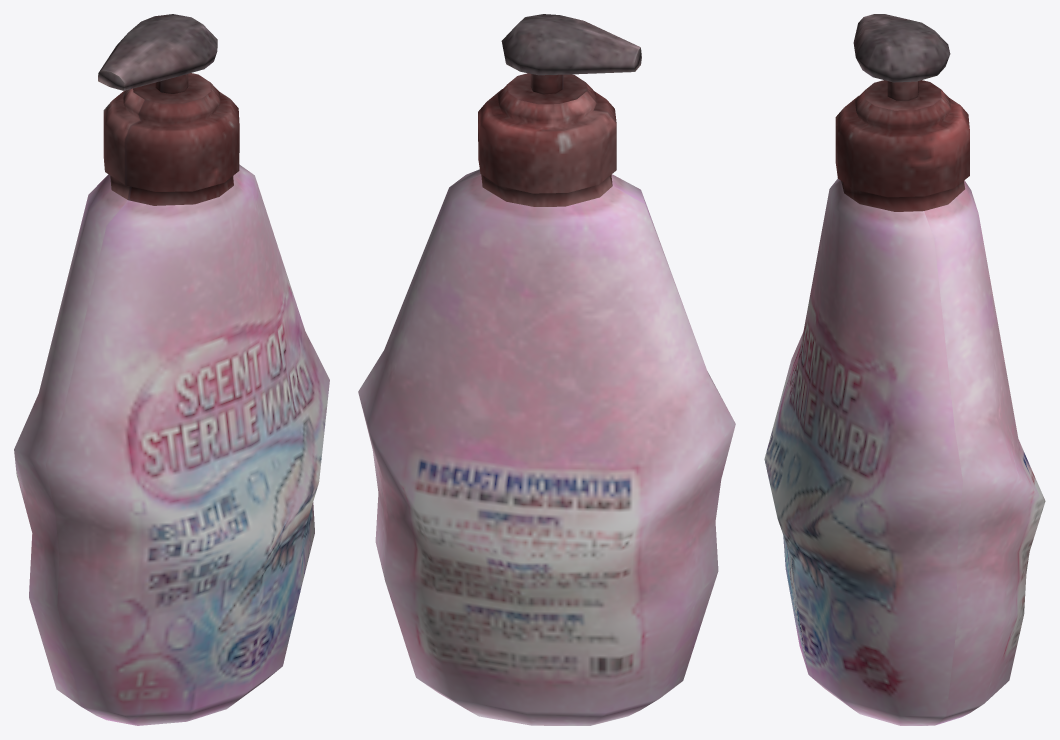
The model's file is food_sm_detergent_liquid.fbx.
3 views of the same model, side by side, from view 1: azimuth 30°, elevation 25°; view 2: azimuth 150°, elevation 25°; view 3: azimuth 270°, elevation 25° (orthographic). The views are drawn at different scales.
Parts seen in each view (by area): view 1: food_sm_detergent_liquid; view 2: food_sm_detergent_liquid; view 3: food_sm_detergent_liquid.
Boxes of the visible parts, x1,y1,x2,y2 form: food_sm_detergent_liquid: (14, 14, 329, 725); food_sm_detergent_liquid: (358, 14, 735, 725); food_sm_detergent_liquid: (764, 14, 1045, 725).
Size of the model in its own units: 0.1155 by 0.2347 by 0.0912.
Materials: 1 (1 with a texture image).
